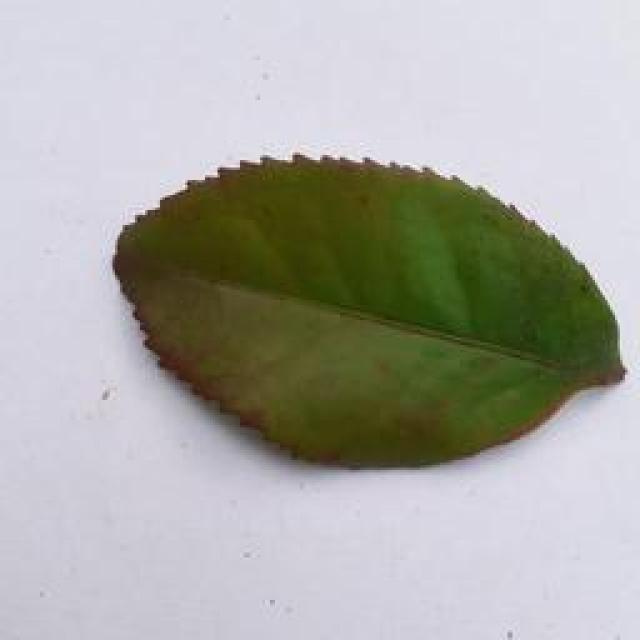Red Leaf Spot: (112, 120, 640, 460)
